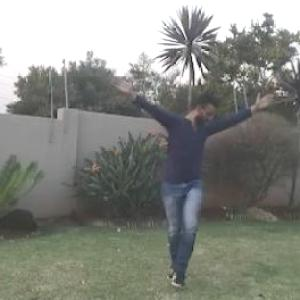takeoff: (115, 75, 278, 292)
